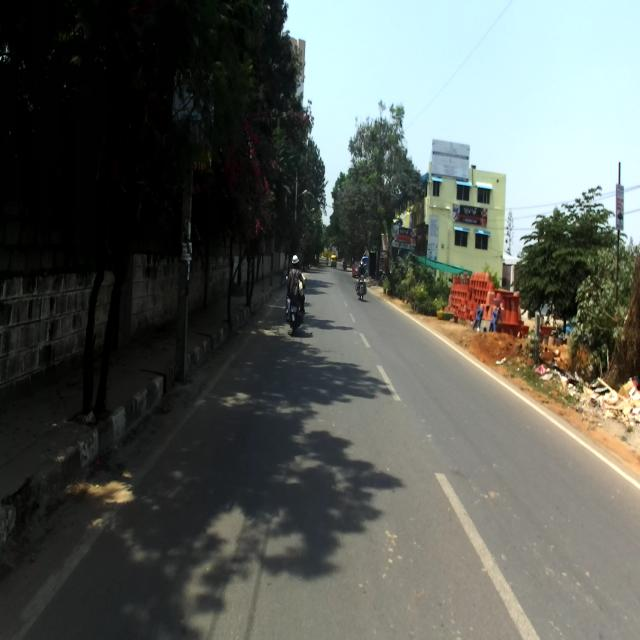electric pole ahead at: (173, 162, 196, 388)
tree ahead at: (76, 249, 125, 422)
